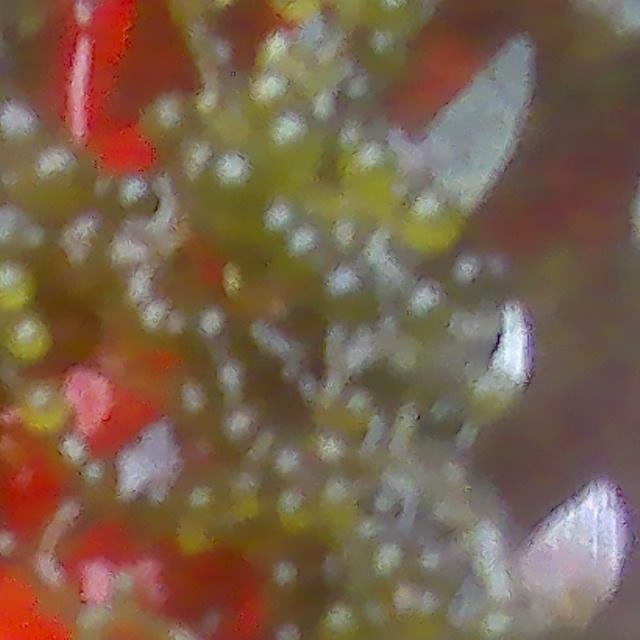SeaGrape: (26, 151, 100, 218), (394, 189, 461, 257), (261, 108, 324, 177), (346, 145, 408, 214), (0, 100, 47, 149), (0, 263, 34, 313), (6, 319, 48, 359)
